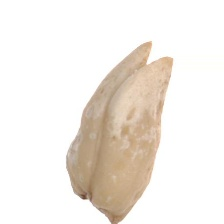L1: (78, 185, 121, 223), (136, 38, 174, 76)
L2: (65, 39, 175, 224)
